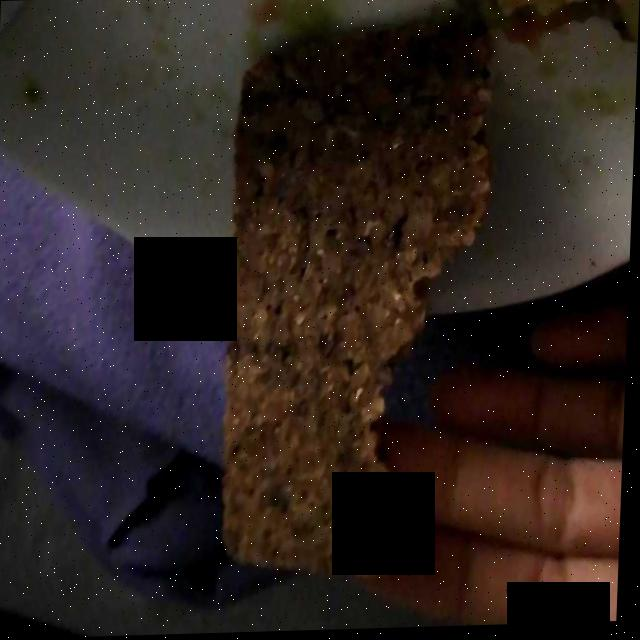bread-wholemeal: (231, 22, 489, 574)
linseeds: (225, 27, 499, 573)
